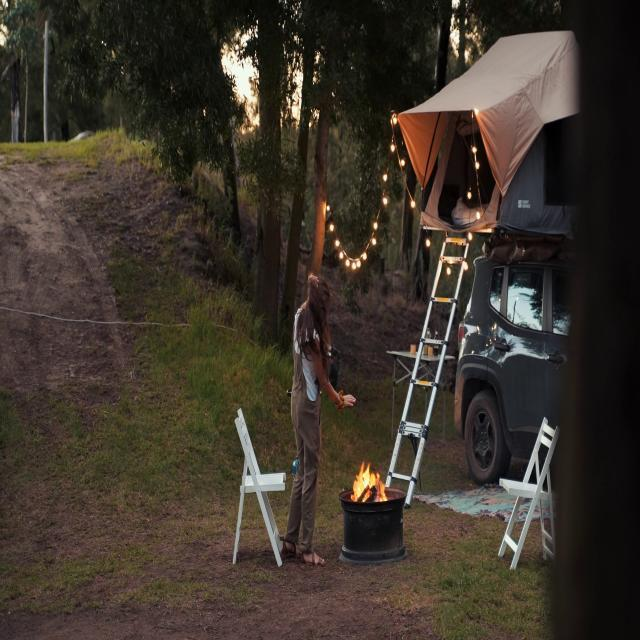Fire: (352, 452, 384, 504)
Smoke: (548, 1, 640, 631)
